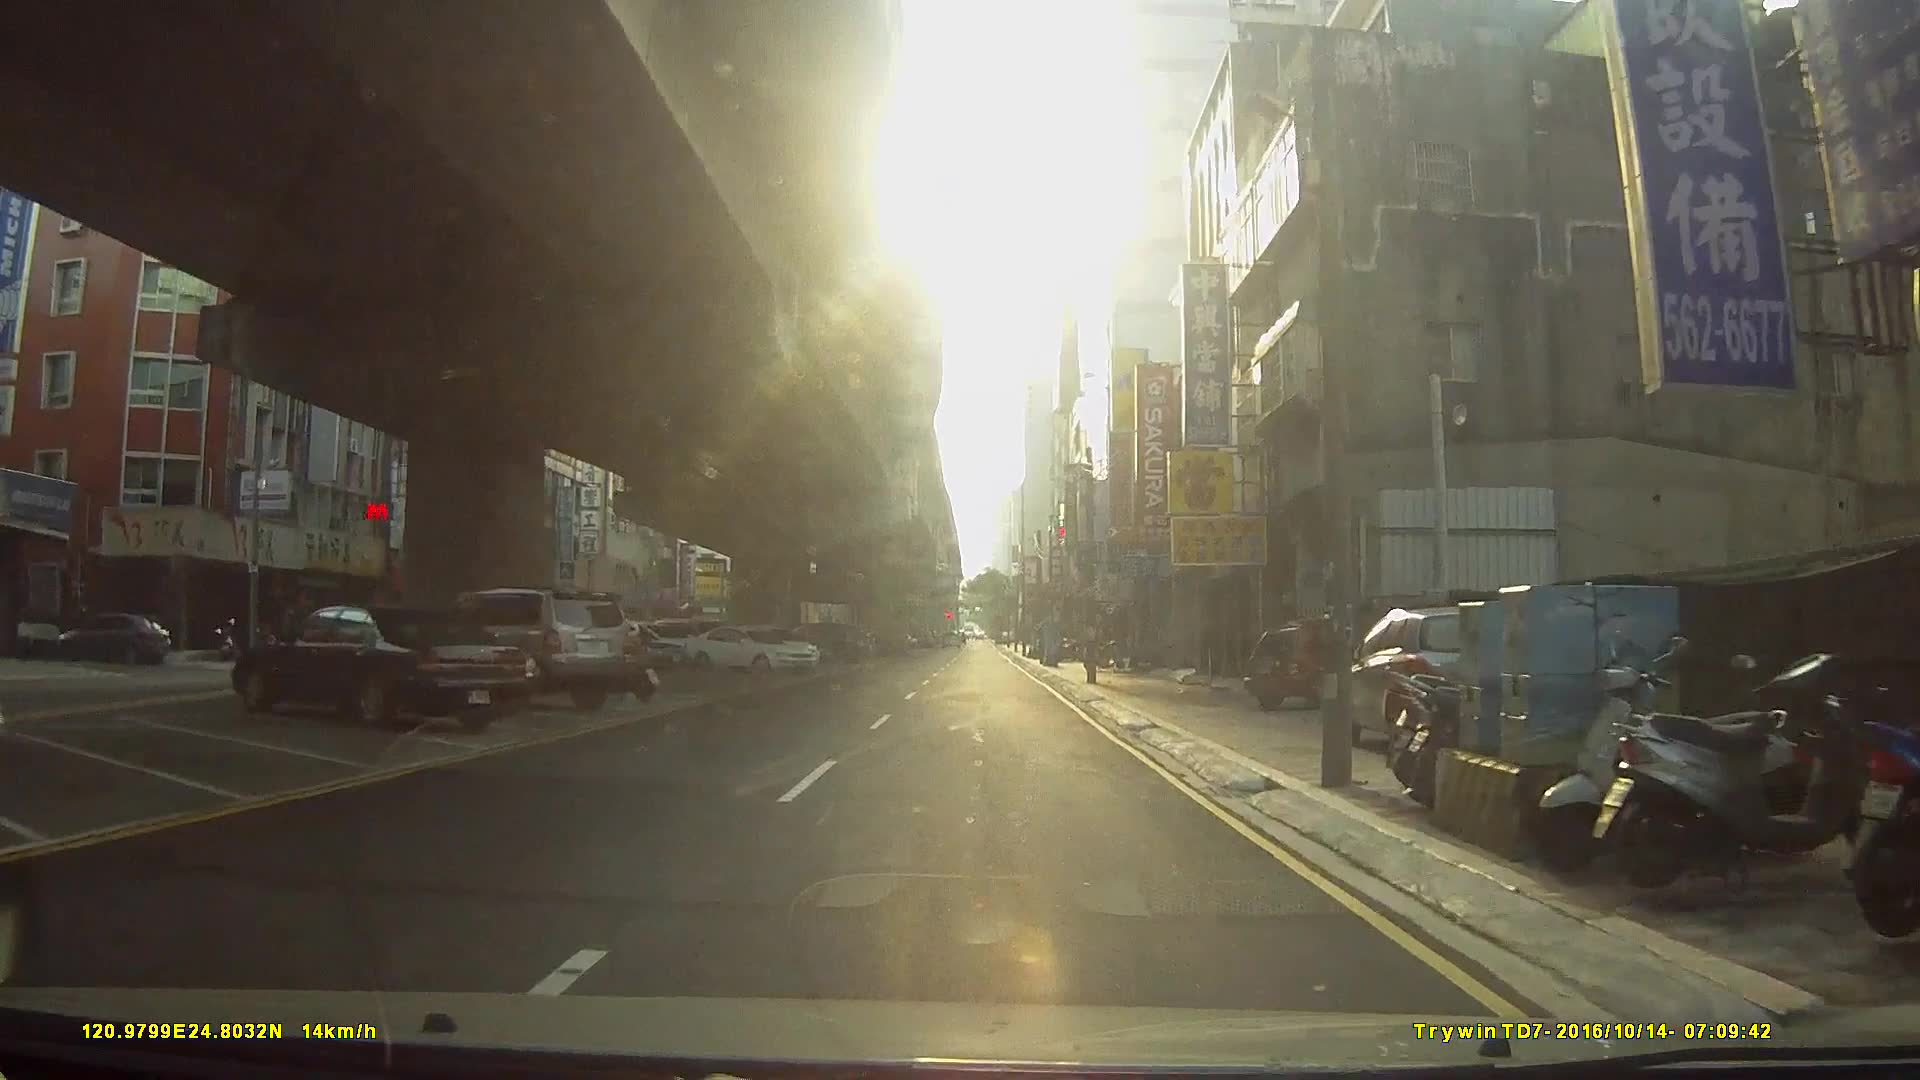vehicle: (229, 603, 533, 732), (1333, 604, 1532, 753), (430, 587, 632, 711), (1241, 615, 1377, 709), (680, 625, 822, 678), (54, 609, 170, 663)
